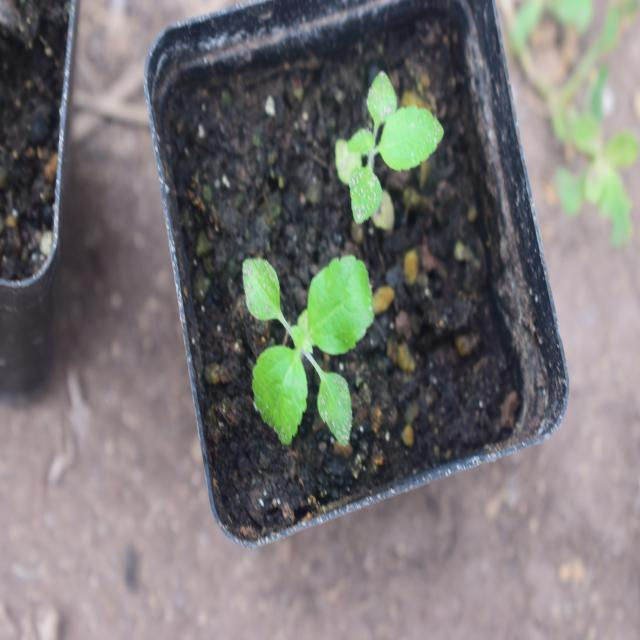billygoat_weed: (223, 229, 370, 452)
